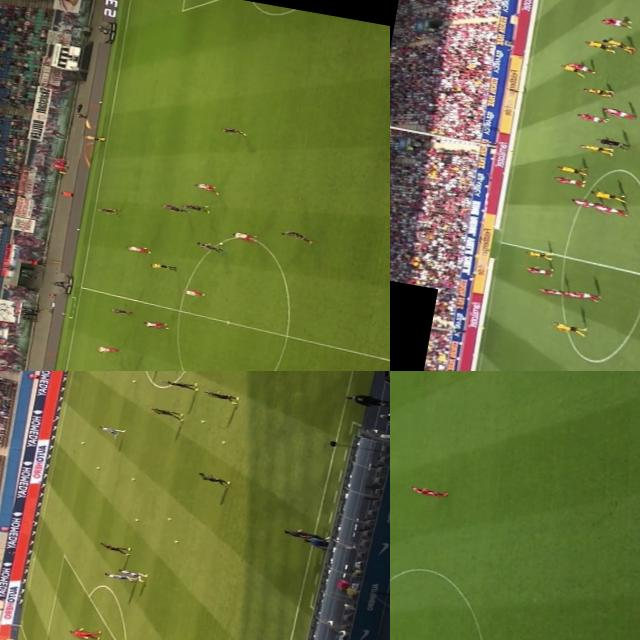ball: (214, 240, 224, 247), (164, 516, 172, 521), (126, 476, 132, 481), (172, 540, 177, 544), (130, 379, 134, 383), (219, 440, 223, 444), (198, 419, 203, 422), (91, 466, 98, 468), (78, 441, 82, 444), (132, 518, 136, 520)
player: (274, 228, 316, 245), (546, 321, 593, 336), (406, 484, 450, 500), (560, 289, 601, 304), (516, 262, 554, 278), (599, 105, 637, 121), (200, 389, 240, 404), (588, 187, 625, 203), (194, 471, 230, 487), (597, 36, 634, 51), (552, 162, 586, 178), (164, 377, 198, 393), (576, 141, 612, 156), (590, 204, 628, 218), (148, 406, 185, 420), (534, 286, 570, 300), (572, 110, 608, 124), (551, 174, 586, 188), (116, 566, 146, 582), (578, 84, 612, 98), (561, 60, 594, 74), (583, 38, 616, 52), (192, 241, 227, 253), (156, 201, 188, 214), (190, 180, 219, 194), (520, 248, 551, 261), (97, 542, 128, 555), (68, 627, 99, 640), (597, 16, 630, 28), (140, 318, 168, 332), (227, 230, 258, 242), (568, 196, 598, 208), (124, 243, 151, 256), (105, 305, 132, 317), (558, 64, 584, 76), (98, 426, 124, 438), (182, 202, 212, 212), (216, 126, 243, 136), (102, 572, 132, 581), (94, 205, 118, 216), (92, 344, 118, 354), (181, 288, 204, 298), (103, 368, 130, 371)
